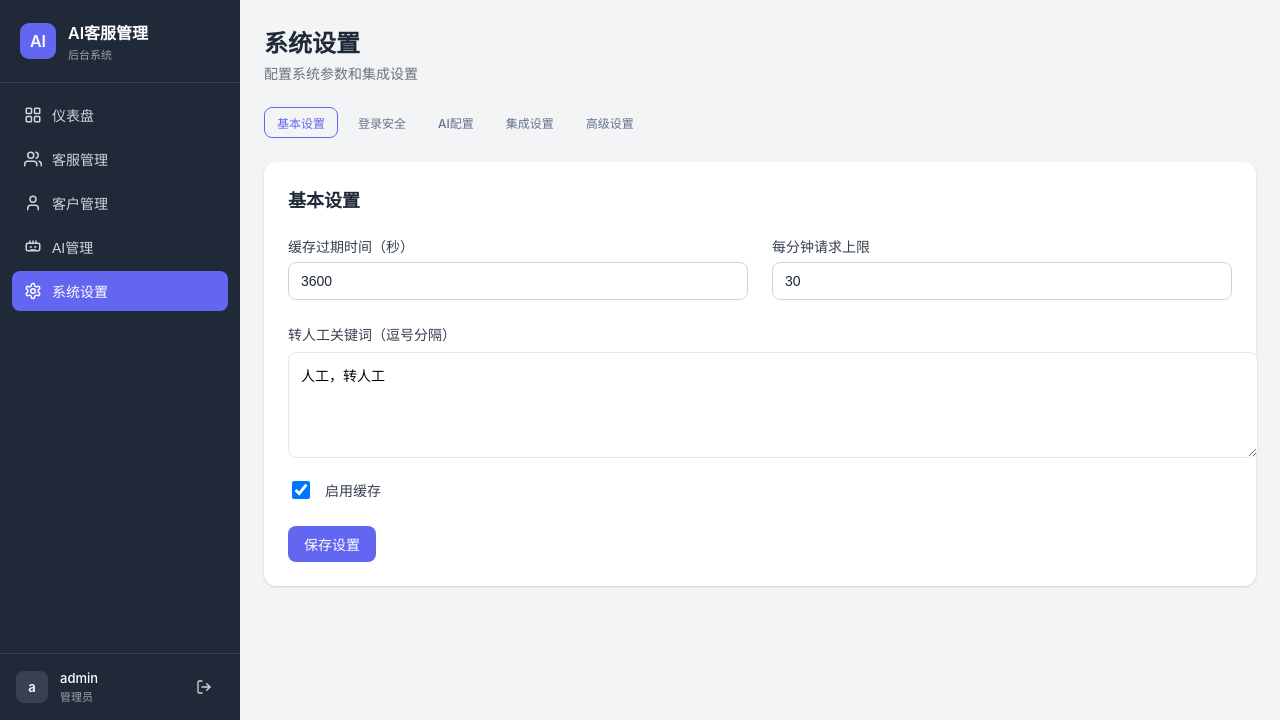
Test: SettingsPage 系统设置 › 校验并轮换客服登录凭据
Expected: the text "缓存过期时间（秒）" is shown, [288, 238, 414, 255]
Click the button "登录安全" at (382, 122), box [346, 107, 418, 138]
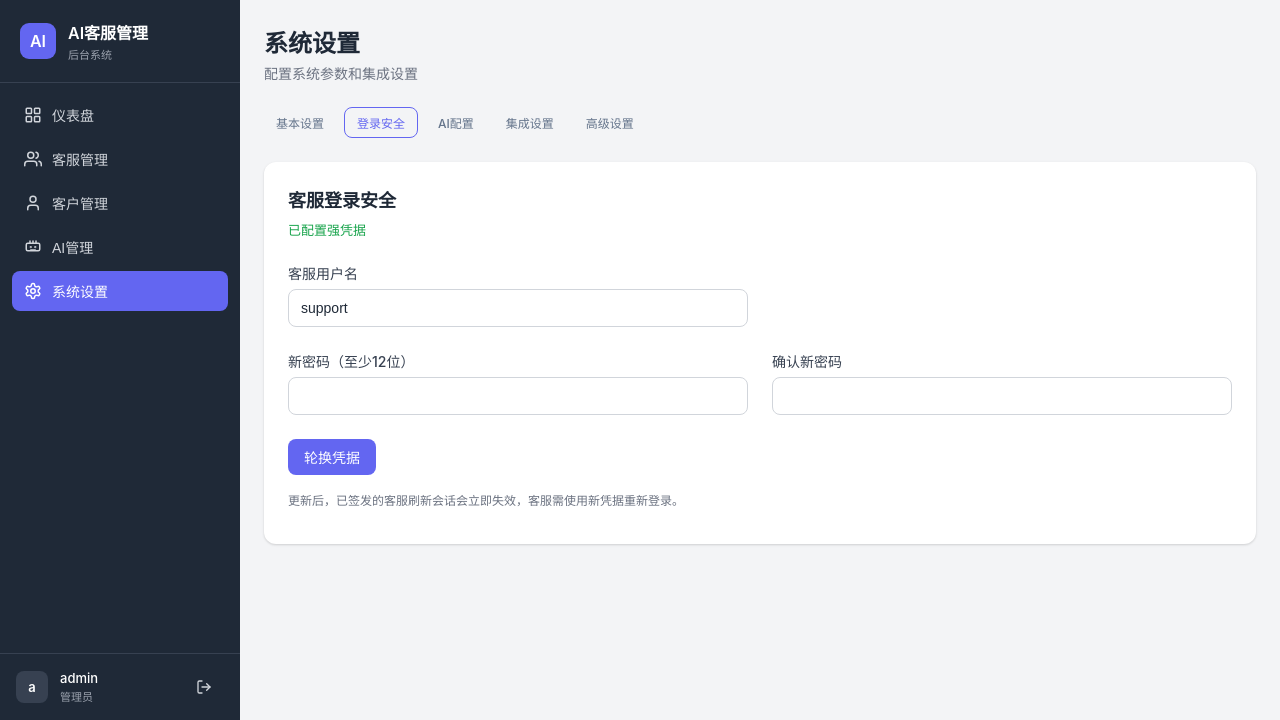
Result: the text "已配置强凭据" is shown at [288, 222, 366, 238]
Type "new-secure-password" into the password field labelled "新密码（至少12位）" at (518, 396), box [289, 378, 747, 414]
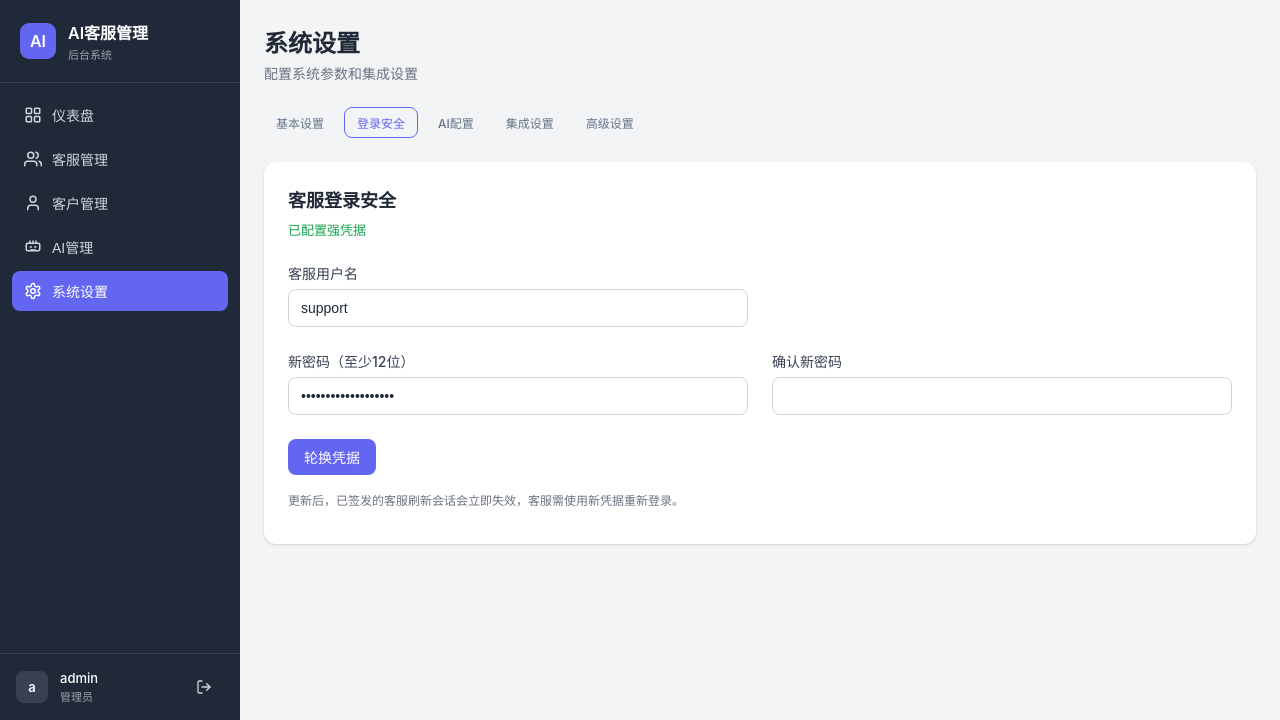
Type "new-secure-password" into the password field labelled "确认新密码" at (1002, 396), box [773, 378, 1231, 414]
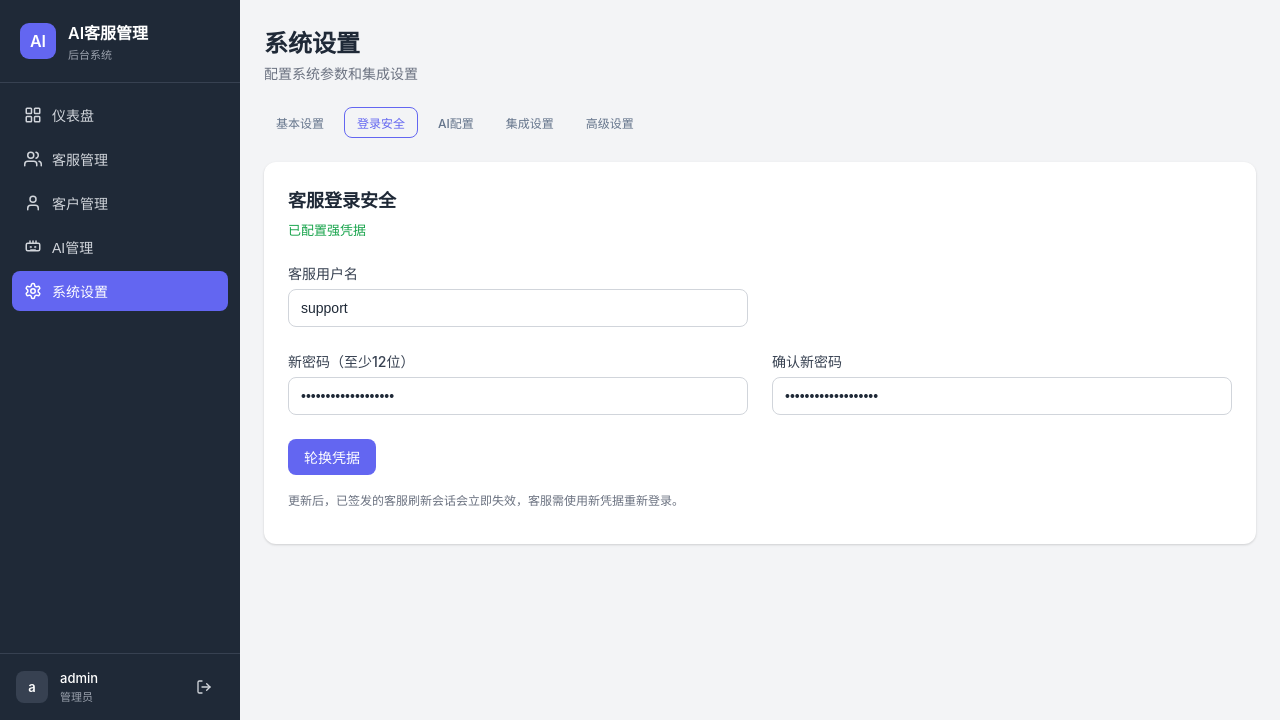
Click the button "轮换凭据" at (332, 457), box [288, 439, 376, 475]
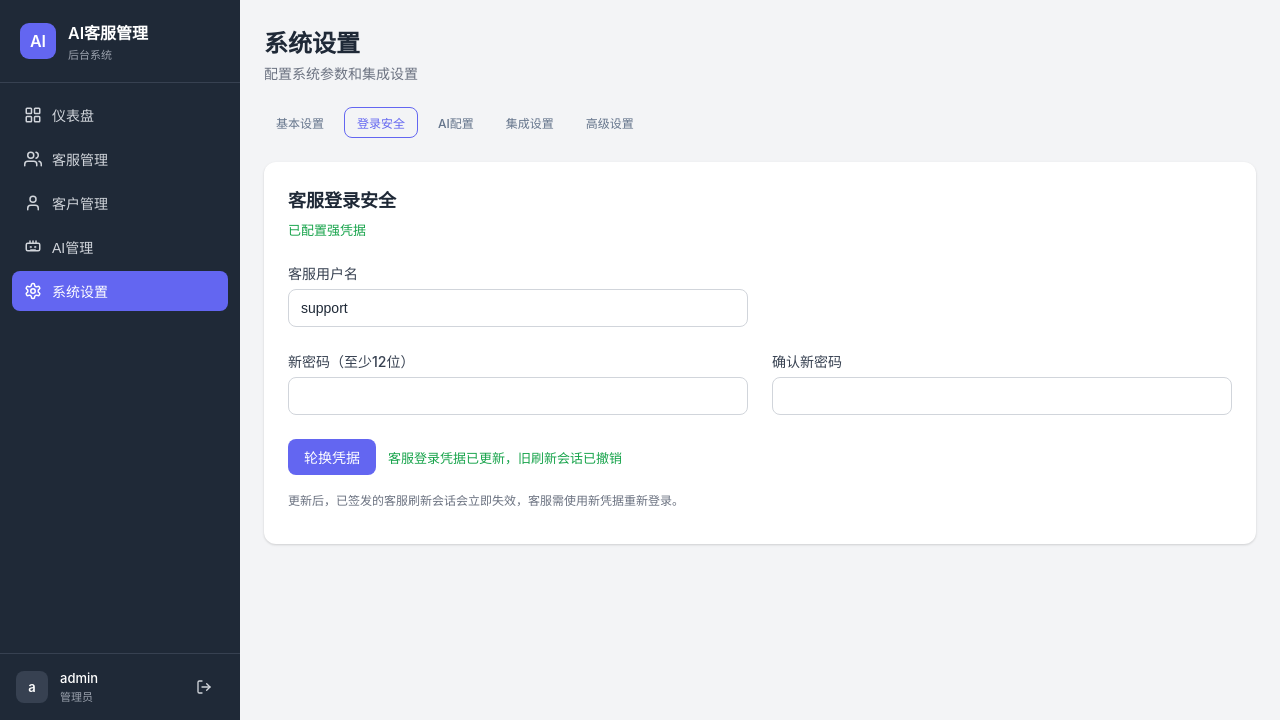
Result: the text "客服登录凭据已更新，旧刷新会话已撤销" is shown at [388, 448, 622, 466]
